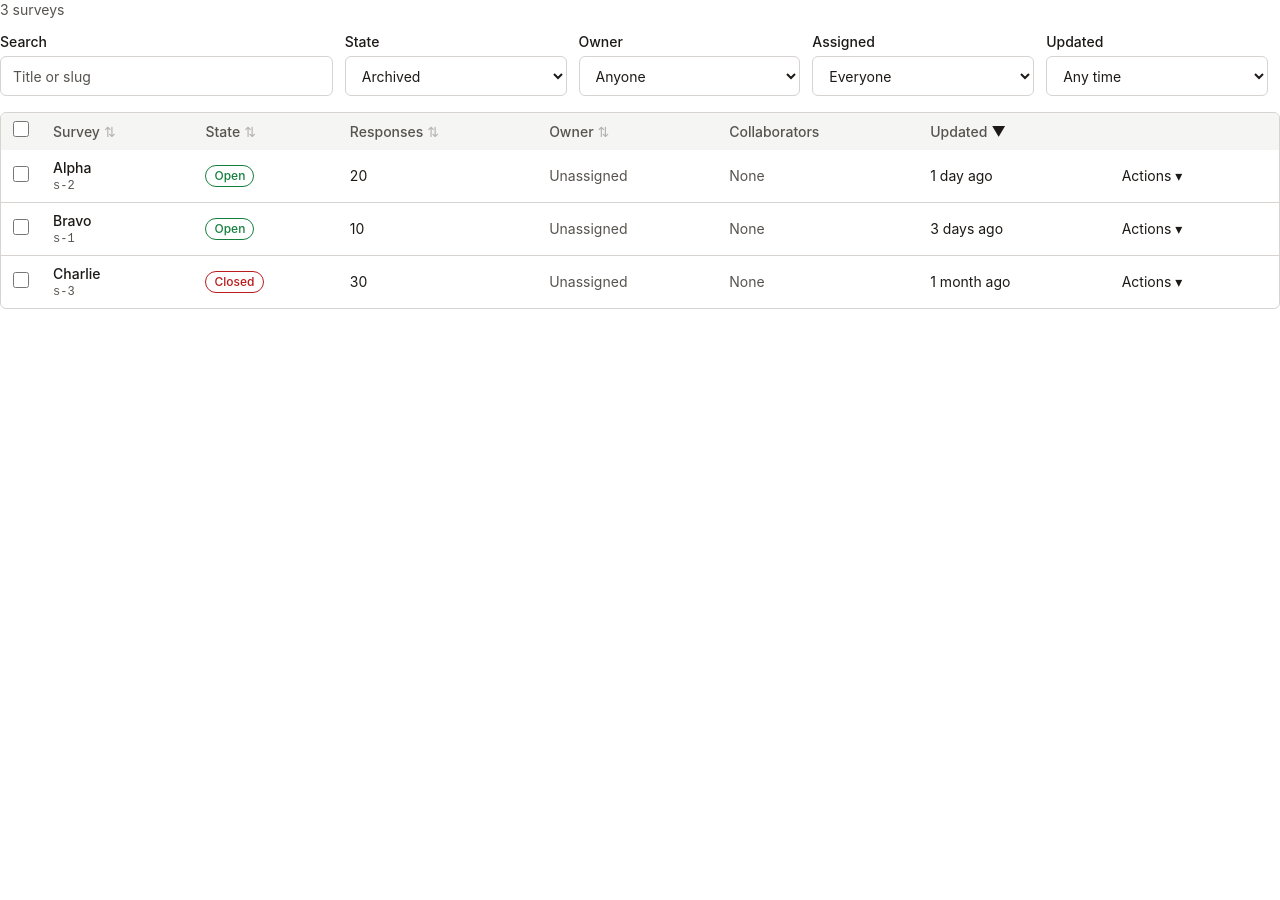
SurveyList › requires the DELETE word when responses exist and deletes the selected ids
Click the checkbox named "Select Alpha" at [21, 174], box [13,166,29,182]
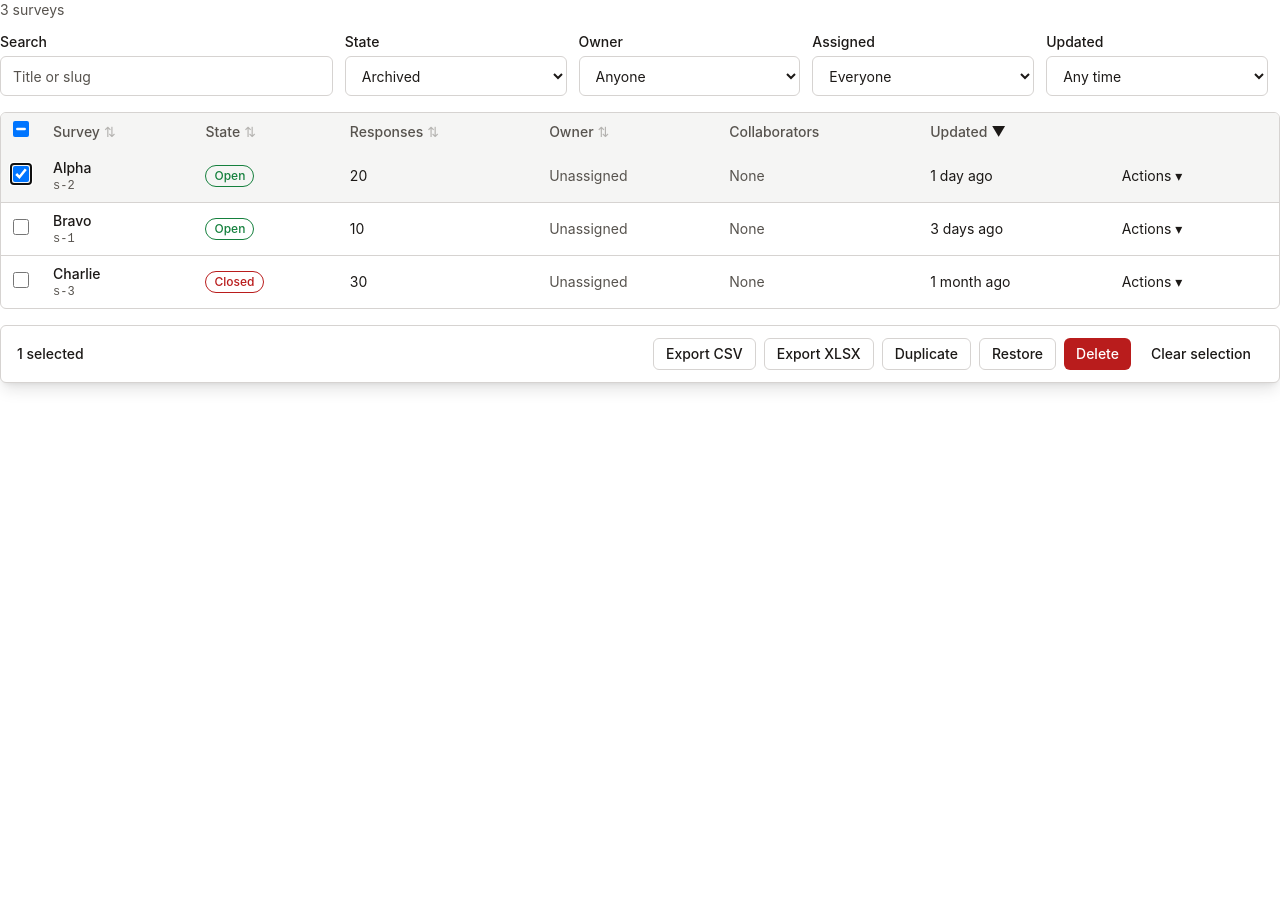
Click the checkbox named "Select Bravo" at [21, 226], box [13,218,29,234]
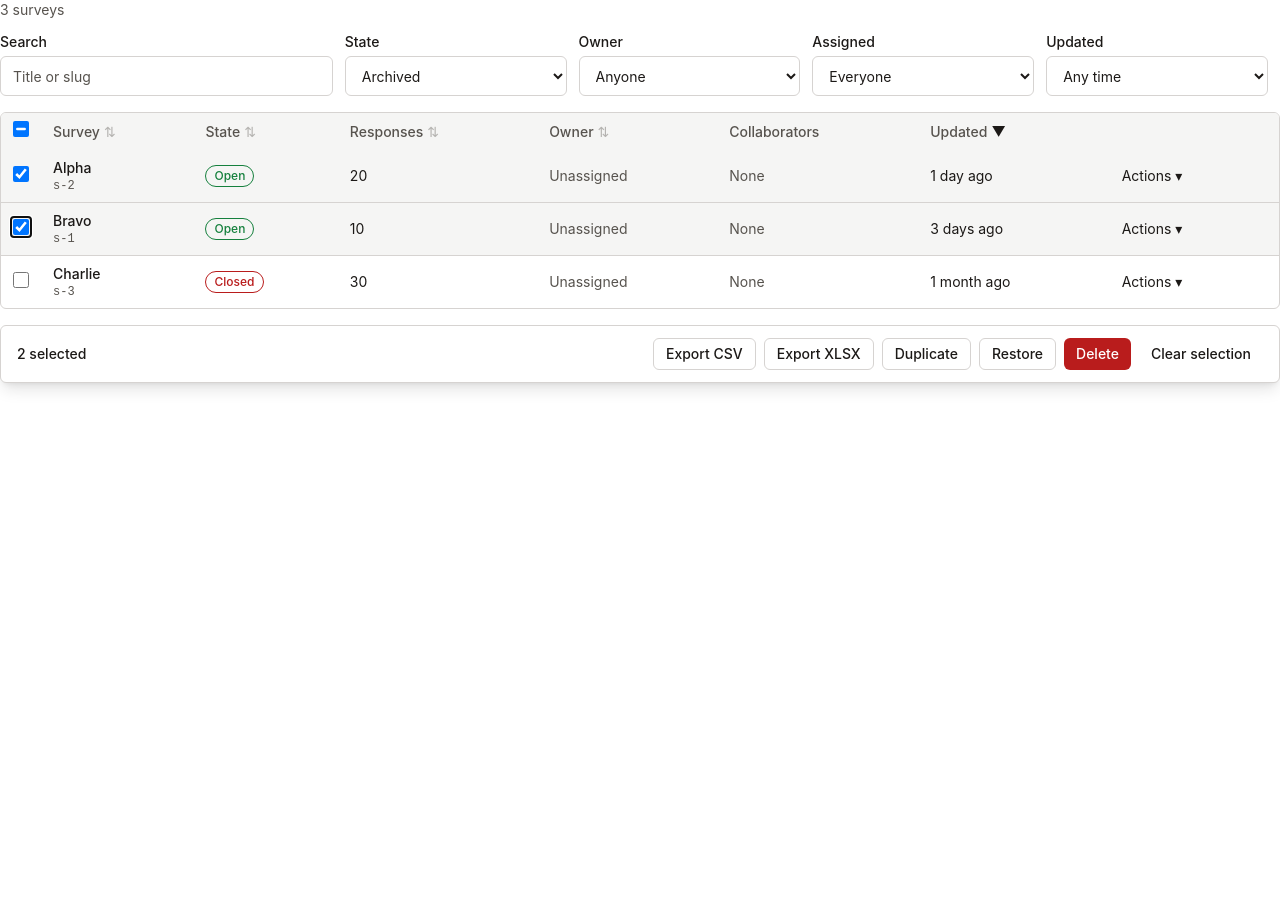
Click the button "Delete" at [1097, 354], box [1064,338,1131,370]
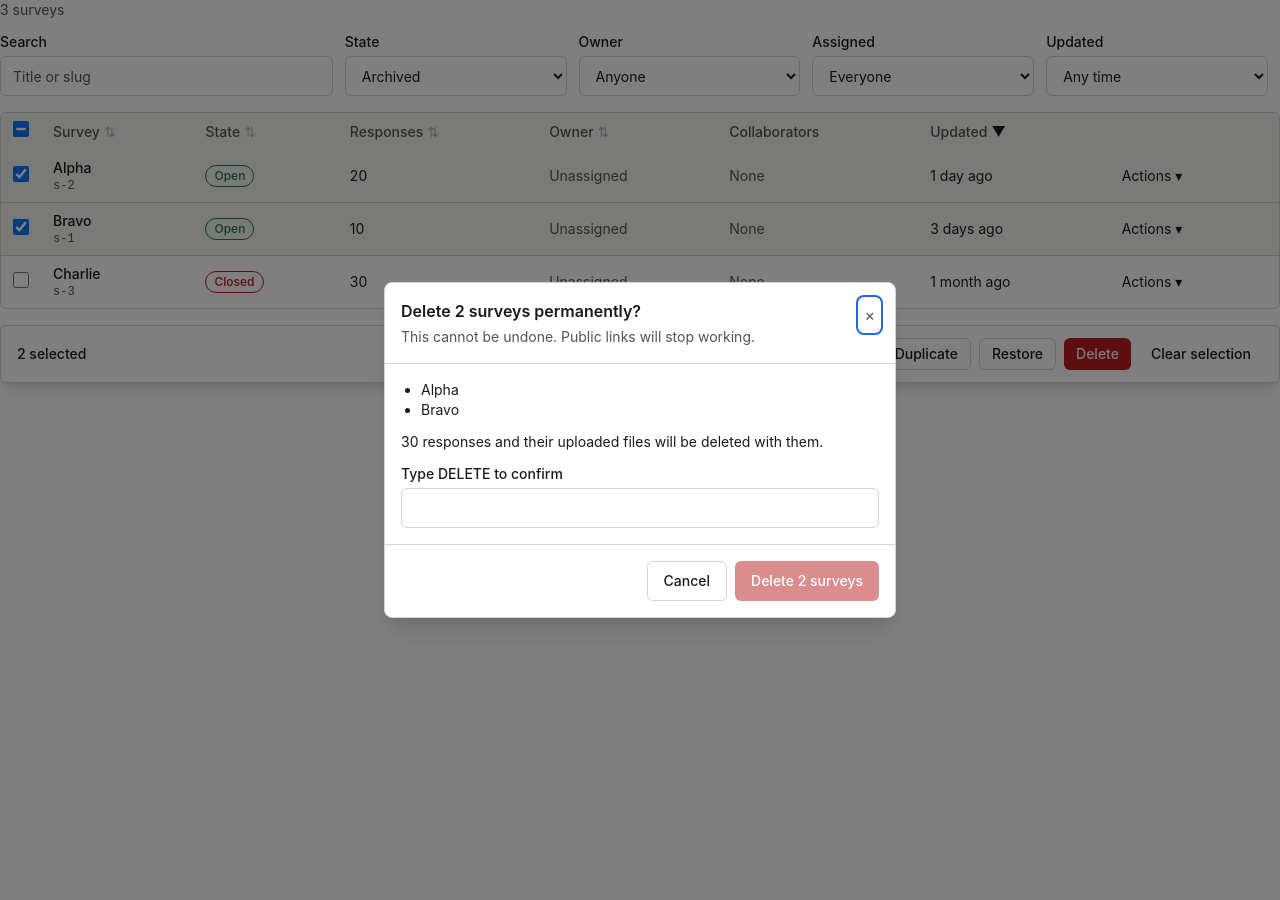
expect the list item "Alpha" is shown: met, box [421,381,459,398]
expect the list item "Bravo" is shown: met, box [421,401,459,418]
expect the text "30 responses" is shown: met, box [401,433,823,450]
Type "delete" into the field labelled "Type DELETE to confirm" at [640, 508], box [401,488,879,528]
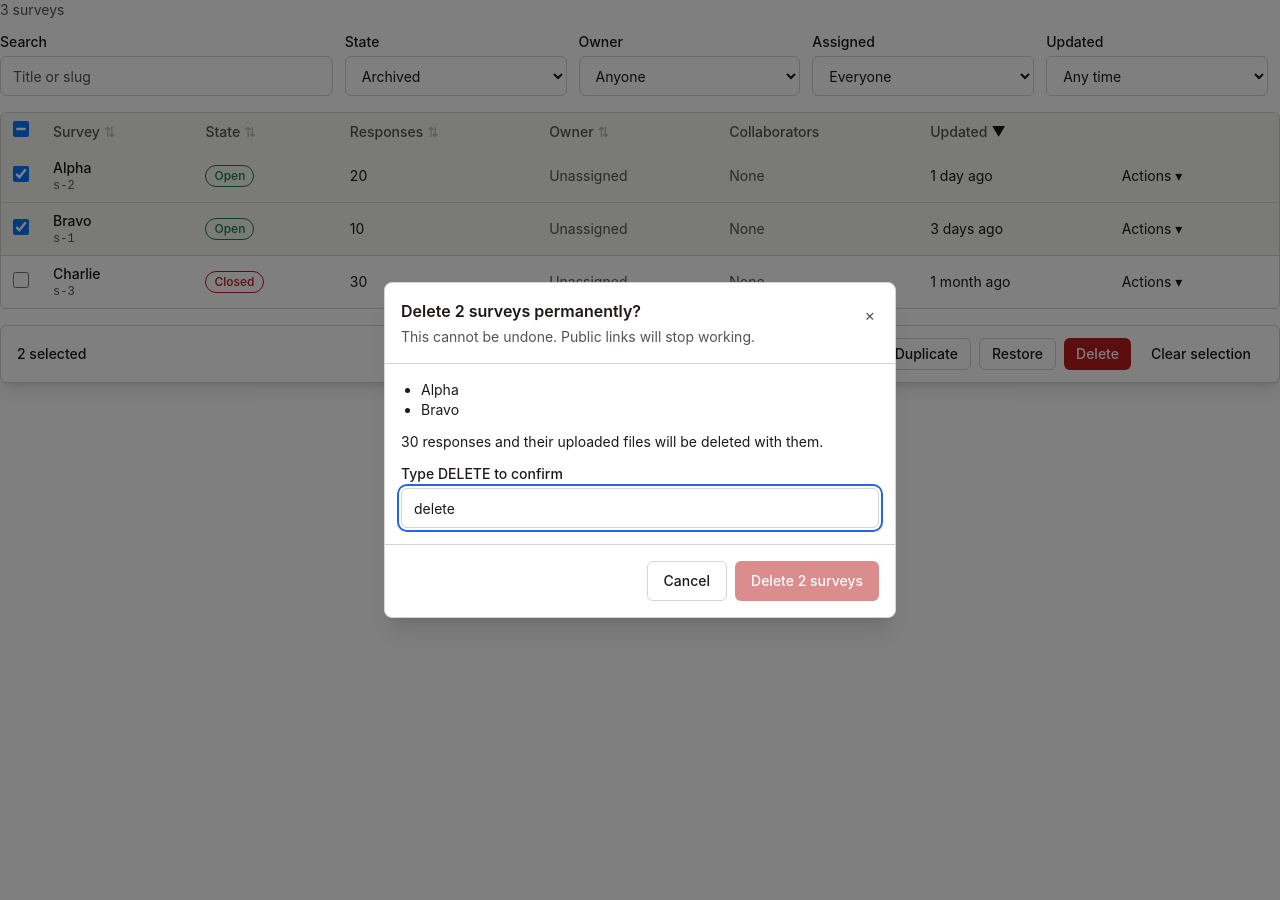
expect the button "Delete 2 surveys" is disabled: met, box [735,561,879,601]
Replace the text in the field labelled "Type DELETE to confirm" with "DELETE" at [640, 508], box [401,488,879,528]
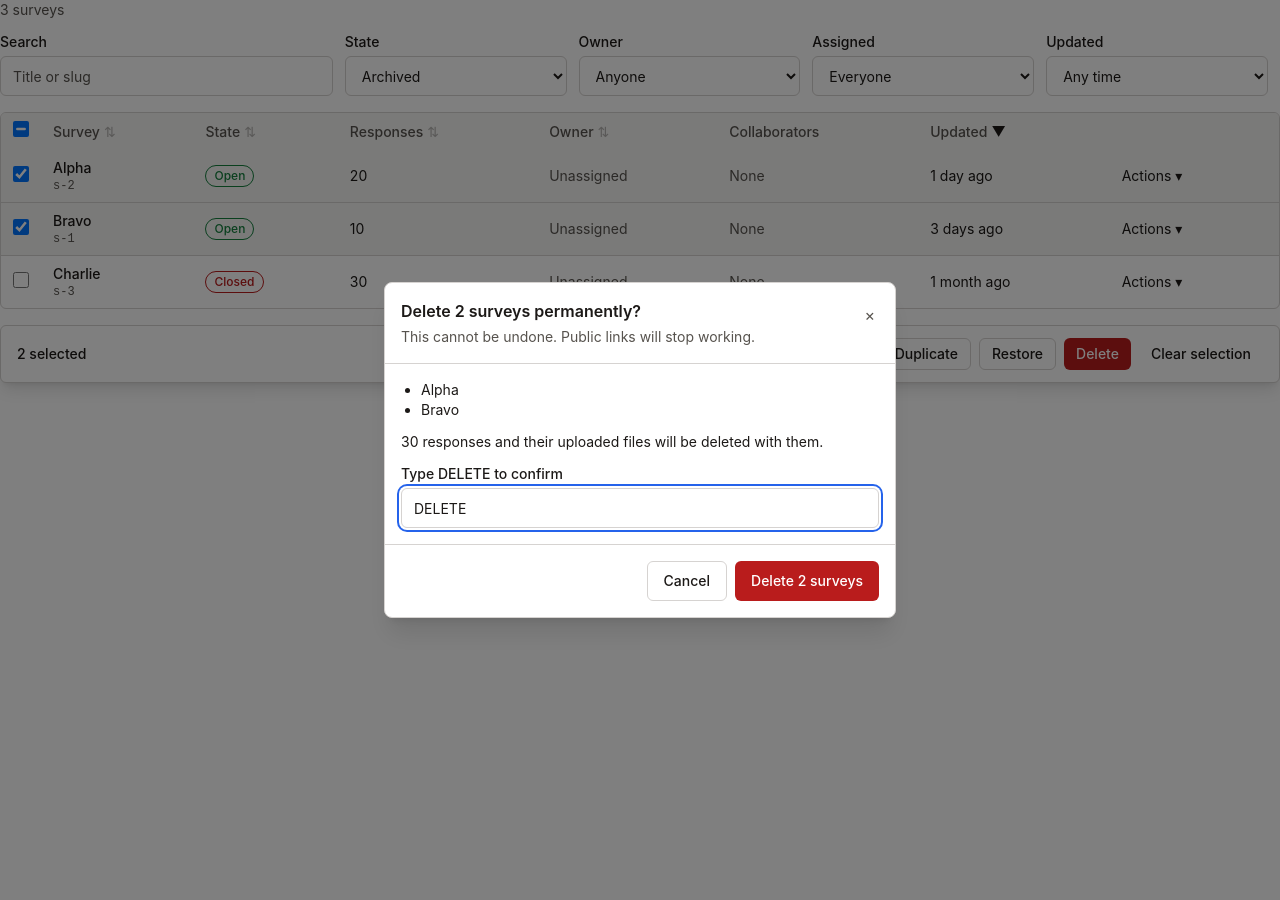
expect the button "Delete 2 surveys" is enabled: met
Click the button "Delete 2 surveys" at [807, 581], box [735,561,879,601]
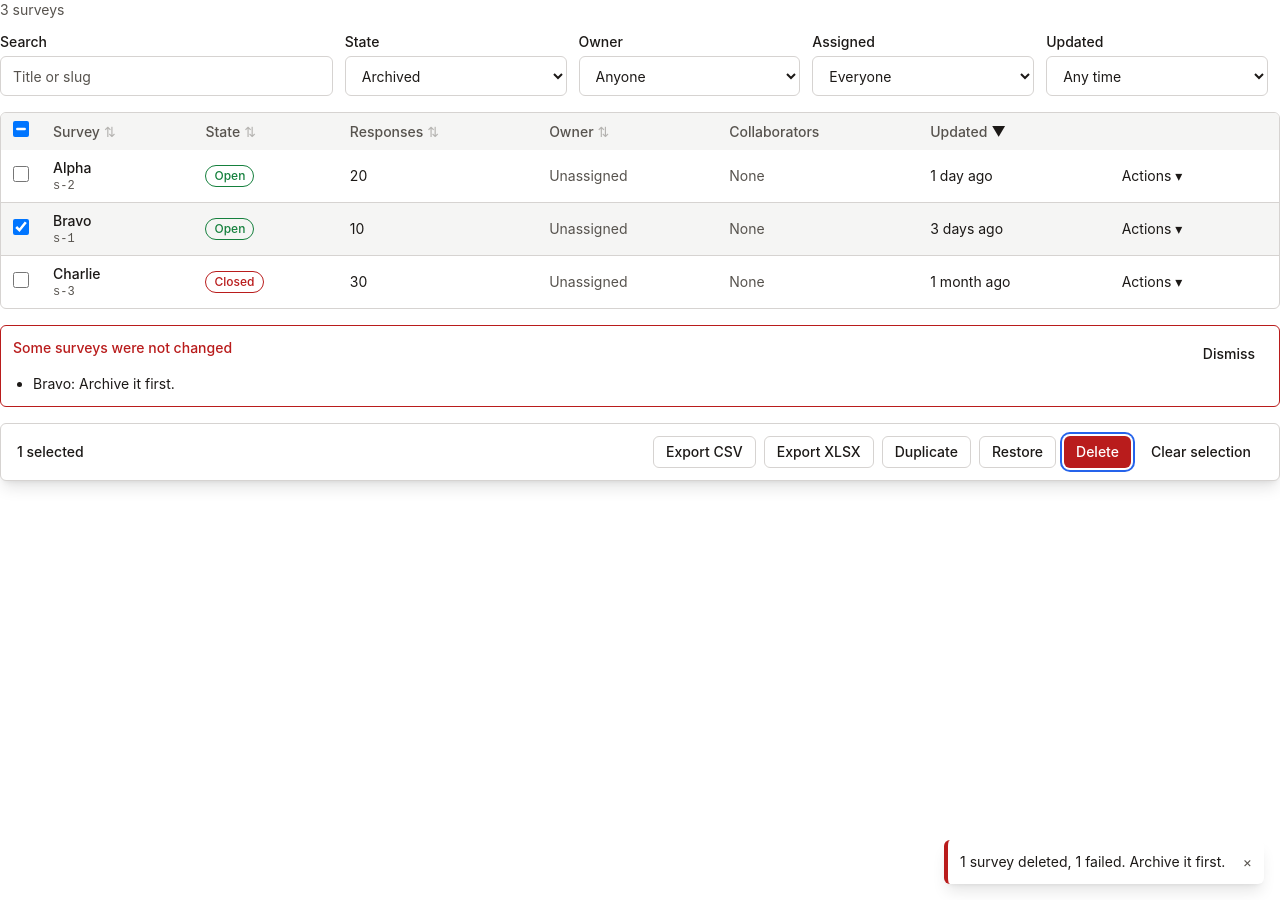
expect the list item "Bravo: Archive it first." is shown: met, box [33,375,175,392]
